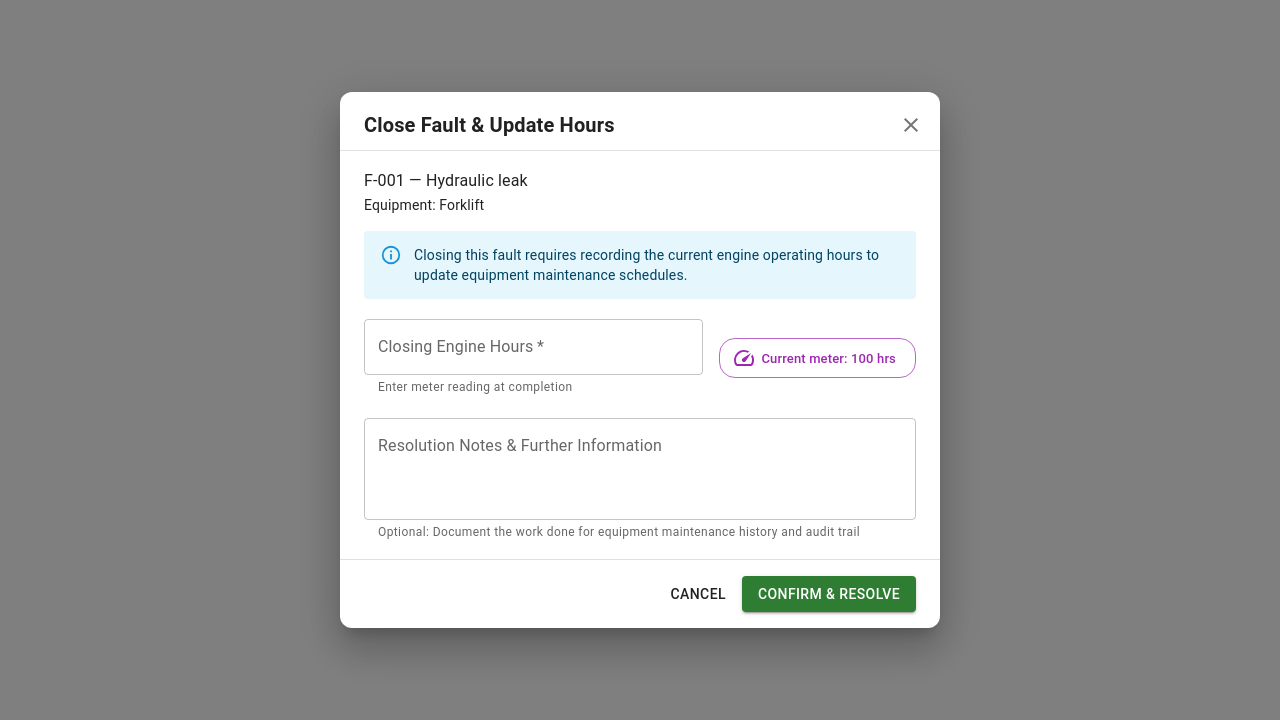
Scenario: CloseFaultDialog › shows a validation error for a negative engine hours value
Type "-5" into the number field labelled "Closing Engine Hours *" at (534, 347), box [364, 319, 703, 375]
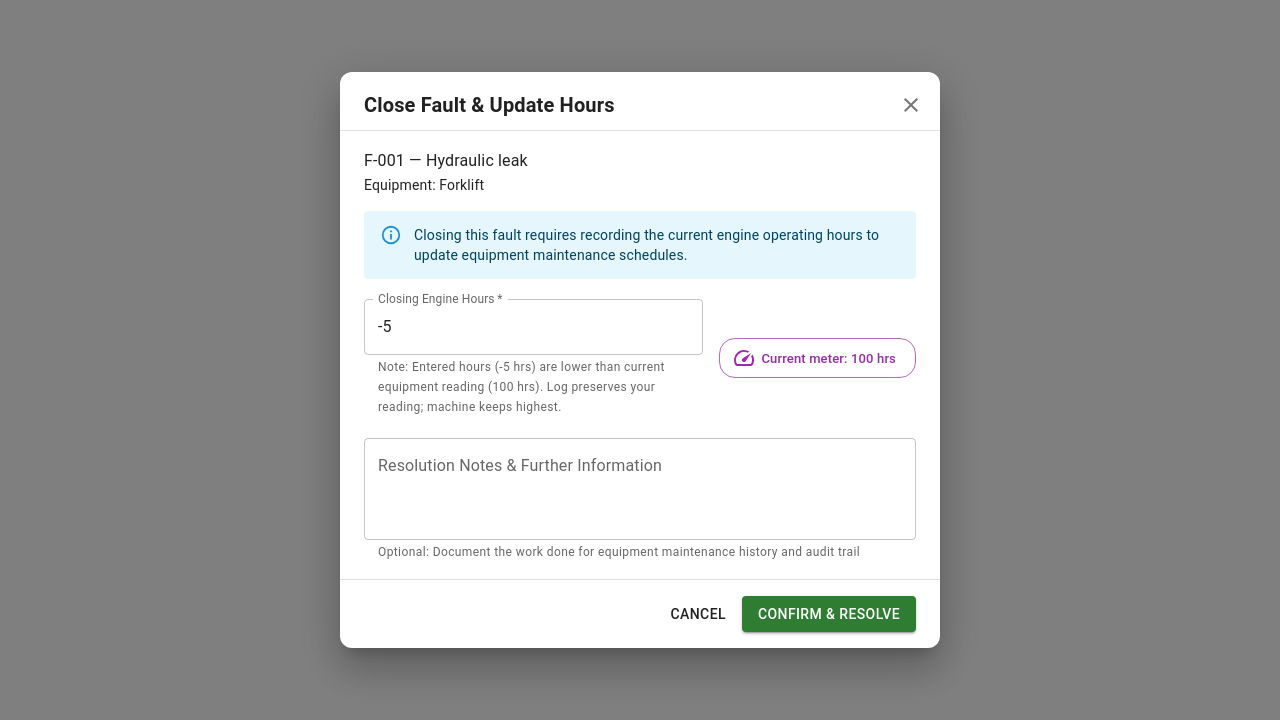
Click the button "Confirm & Resolve" at (829, 614), box [742, 596, 916, 632]
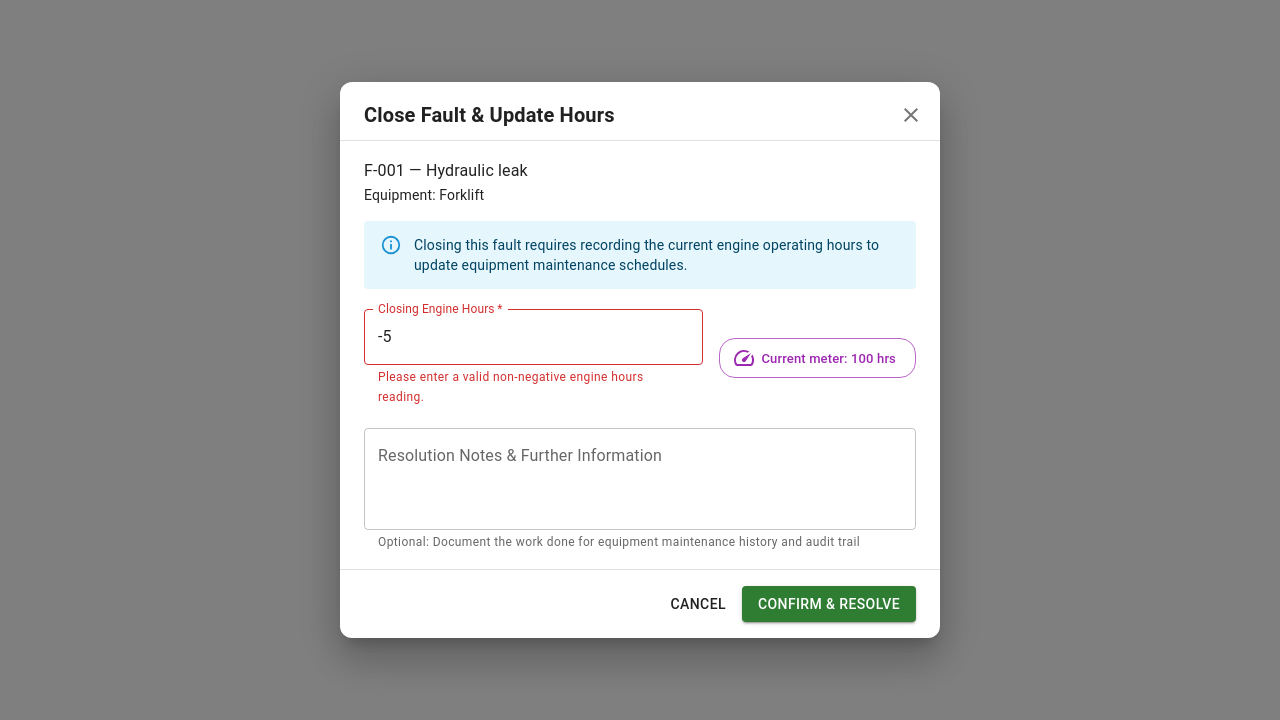
Check: the text "Please enter a valid non-negative engine hours reading." is shown, box [378, 368, 689, 408]
